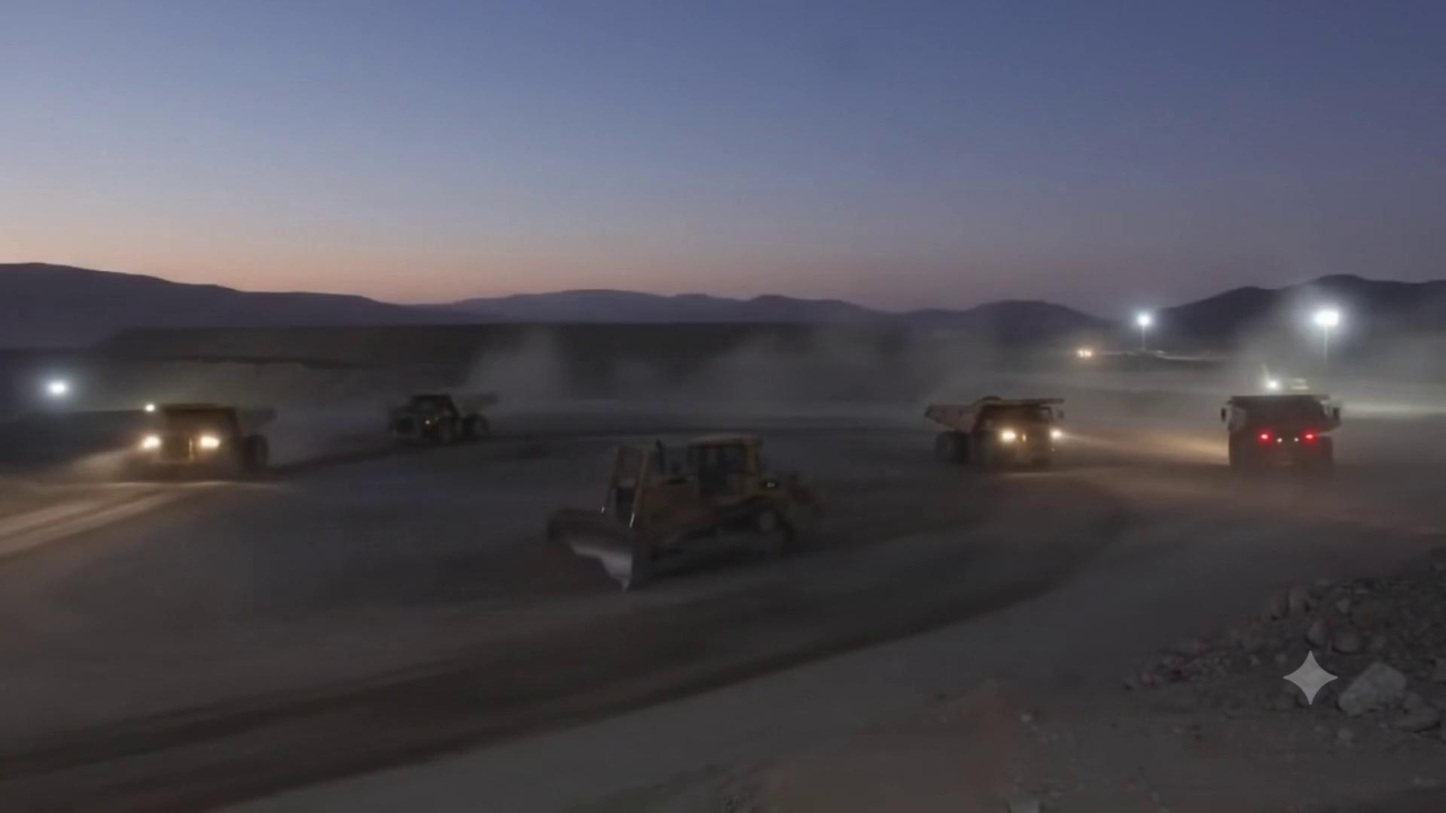CAEX: (125, 400, 276, 480), (923, 394, 1066, 470), (1222, 394, 1342, 475), (389, 390, 500, 444)
bulldozer: (548, 436, 819, 590)
